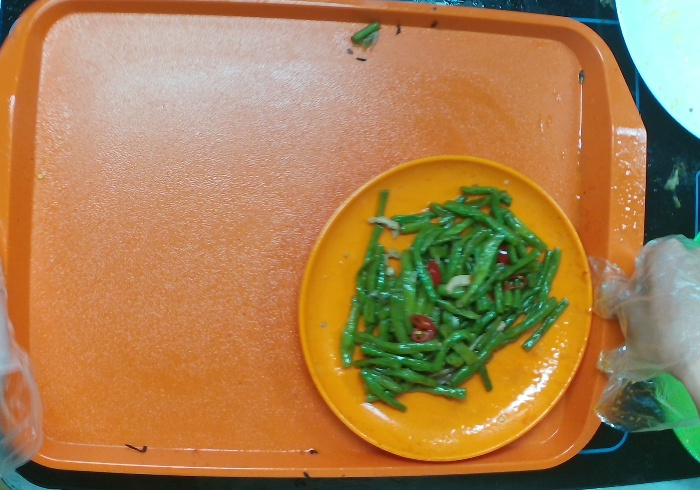HZYJPL-Ju_Huang_Yuan_Pan: (293, 152, 595, 466)
